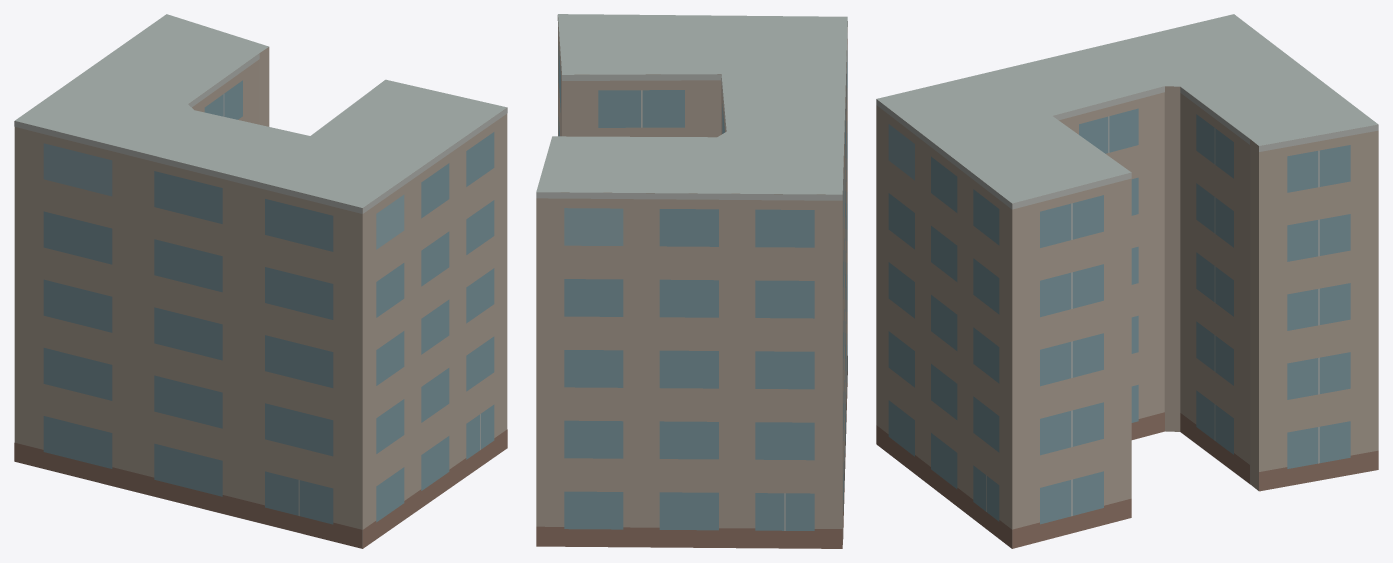
Rendered from survey-upis-32584907.glb.
The picture shows the model from 3 angles, left to right: view 1: azimuth 30°, elevation 25°; view 2: azimuth 150°, elevation 25°; view 3: azimuth 270°, elevation 25°; orthographic projection. The views are drawn at different scales.
Parts seen in each view (by area): view 1: survey-upis-32584907.tmp; view 2: survey-upis-32584907.tmp; view 3: survey-upis-32584907.tmp.
Part boxes in pixels (box(x1,y1,x2,y2)): survey-upis-32584907.tmp: box(14, 14, 507, 548); survey-upis-32584907.tmp: box(536, 14, 847, 548); survey-upis-32584907.tmp: box(876, 14, 1378, 548).
Bounding box in the file's own units: 16.43 × 13.95 × 18.4.
